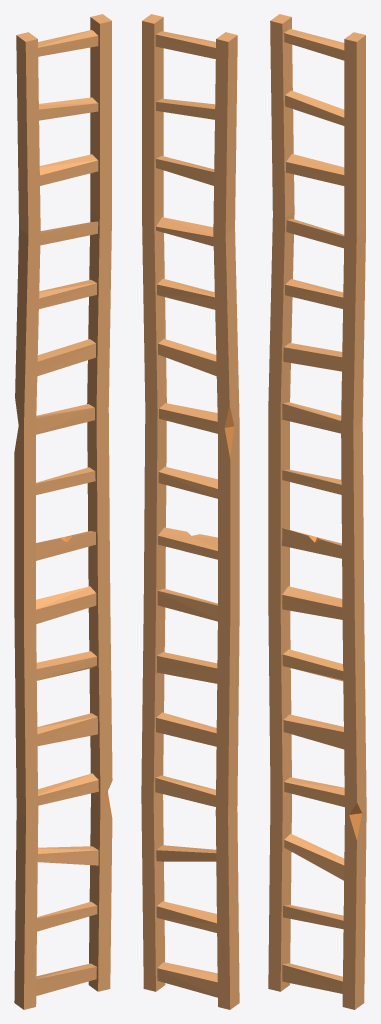
Rendered from ladder.01.fbx.
3 views of the same model, side by side, from view 1: azimuth 30°, elevation 25°; view 2: azimuth 150°, elevation 25°; view 3: azimuth 330°, elevation 25° (orthographic).
Visible parts, largest first — view 1: ladder.01; view 2: ladder.01; view 3: ladder.01.
Part boxes in pixels (x1=…): ladder.01: x1=14, y1=14, x2=112, y2=1009; ladder.01: x1=141, y1=14, x2=239, y2=1009; ladder.01: x1=268, y1=14, x2=366, y2=1009.
Bounding box in the file's own units: 0.6341 × 6.6 × 0.1164.
